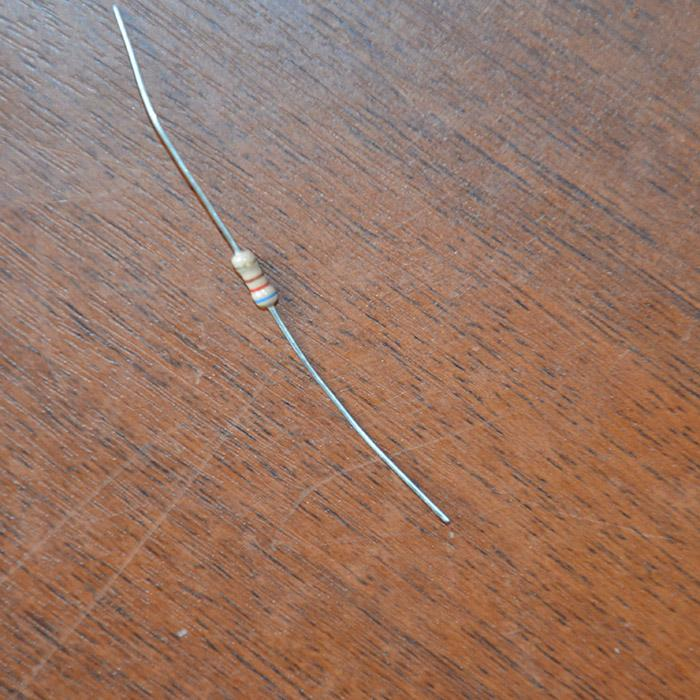resistor: (230, 249, 276, 311)
